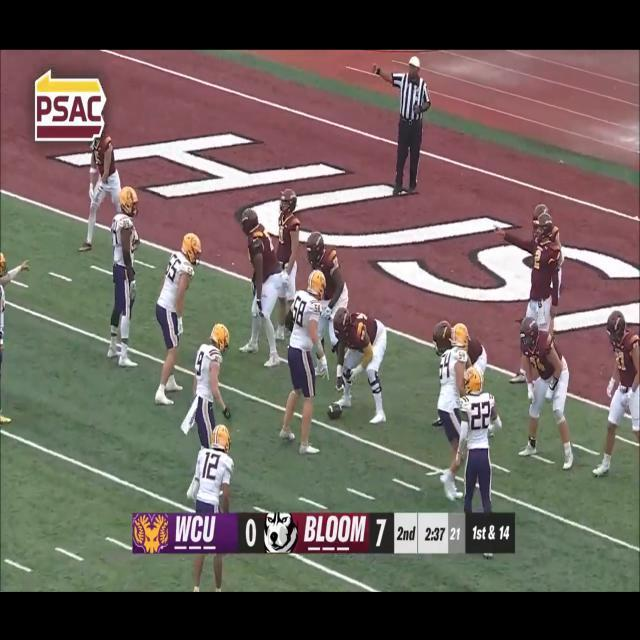football: (326, 402, 343, 419)
